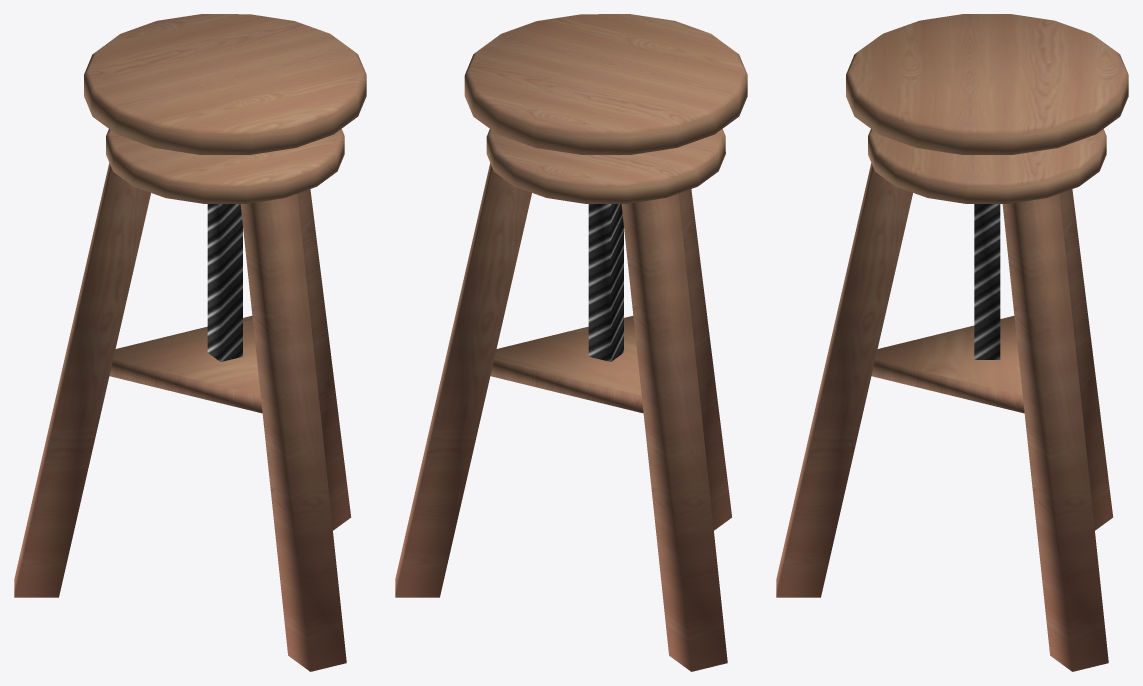
File: Weapon_DengZi_fbx.FBX
3 renders of one model, left to right at view 1: azimuth 30°, elevation 25°; view 2: azimuth 150°, elevation 25°; view 3: azimuth 270°, elevation 25°, orthographic.
Visible parts, largest first — view 1: DengZi; view 2: DengZi; view 3: DengZi.
Boxes of the visible parts, x1,y1,x2,y2 form: DengZi: (14, 14, 366, 671); DengZi: (395, 14, 747, 671); DengZi: (776, 14, 1128, 671).
Size of the model in its own units: 0.3049 by 0.4514 by 0.278.
